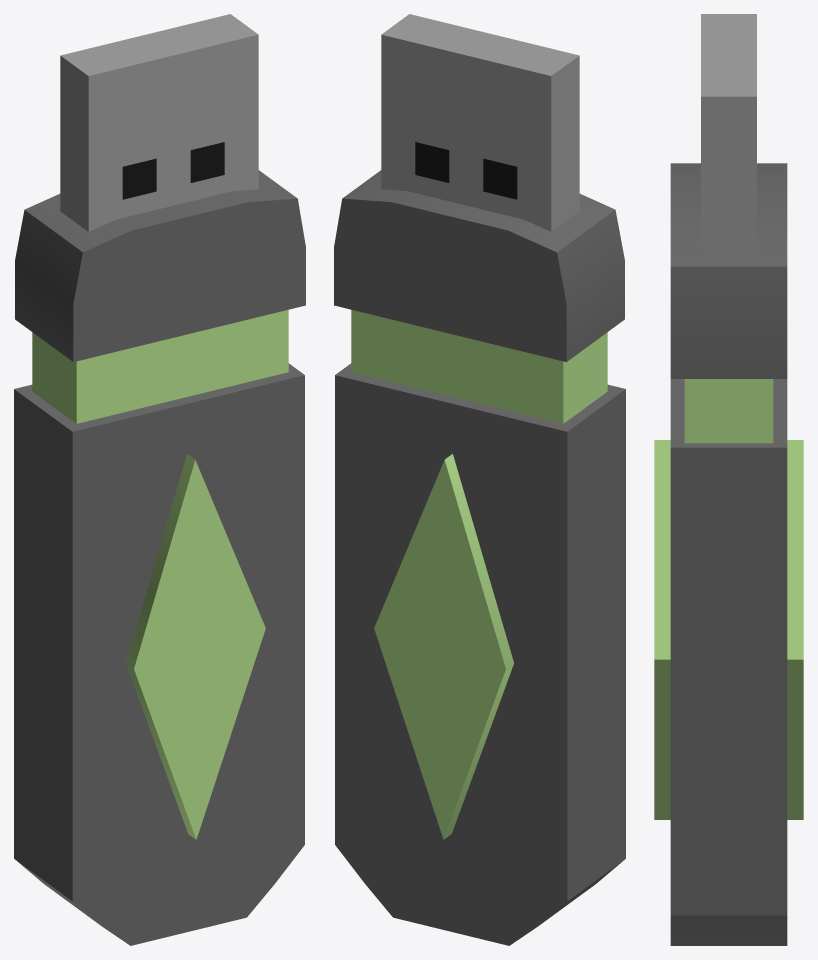
Rendered from USB.fbx.
3 views of the same model, side by side, from view 1: azimuth 30°, elevation 25°; view 2: azimuth 150°, elevation 25°; view 3: azimuth 270°, elevation 25° (orthographic).
Parts seen in each view (by area): view 1: Cube_5; view 2: Cube_5; view 3: Cube_5.
Boxes of the visible parts, x1,y1,x2,y2 form: Cube_5: (14, 14, 305, 945); Cube_5: (334, 14, 625, 945); Cube_5: (654, 14, 803, 945).
Size of the model in its own units: 78.17 by 277 by 43.42.
